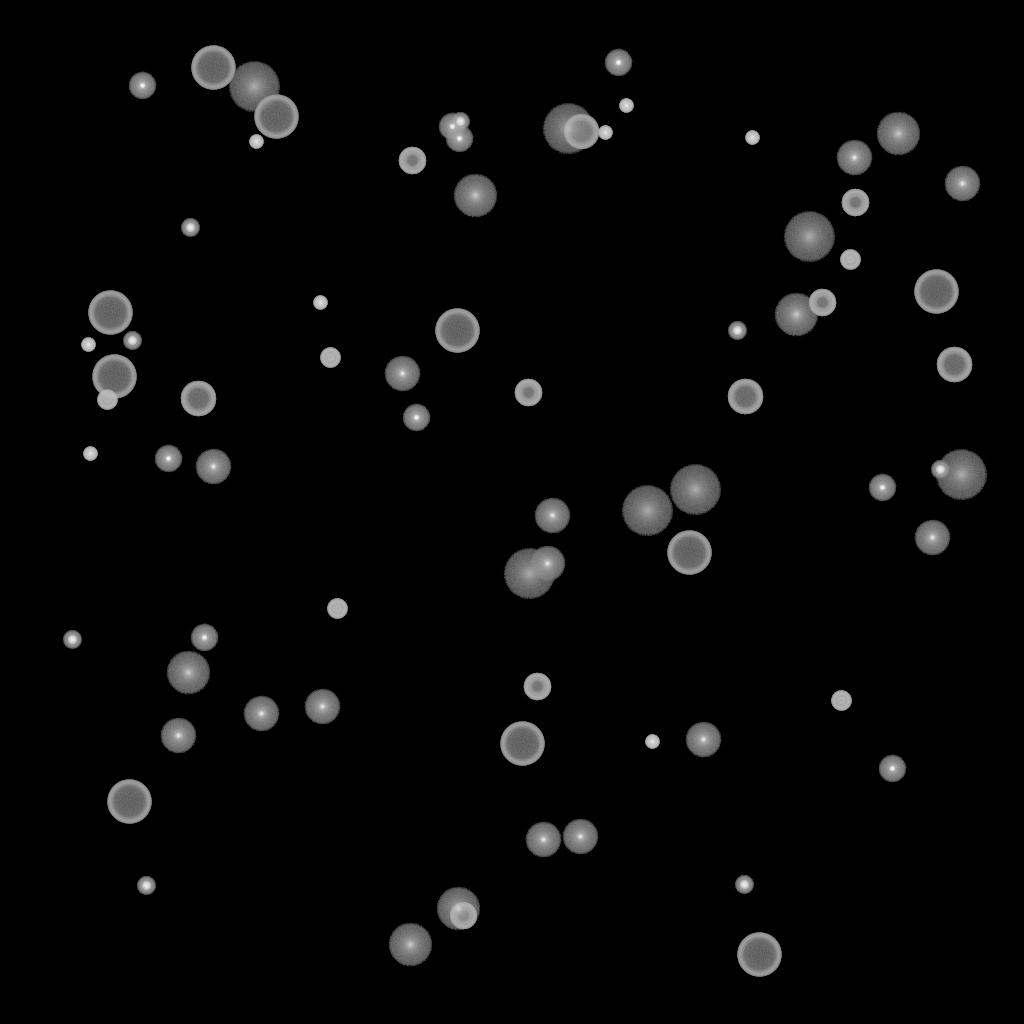depth:-10: (438, 113, 466, 141), (445, 125, 473, 153), (604, 49, 632, 77), (190, 624, 218, 652), (878, 755, 906, 783), (868, 474, 896, 502), (154, 445, 182, 473), (128, 72, 156, 100), (402, 404, 430, 432)
depth:-20: (137, 877, 155, 895), (931, 461, 949, 479), (181, 219, 199, 237), (123, 332, 141, 350), (451, 113, 469, 131), (63, 631, 81, 649), (735, 876, 753, 894), (728, 322, 746, 340)
depth:-30: (745, 131, 759, 145), (598, 126, 612, 140), (619, 99, 633, 113), (313, 296, 327, 310), (249, 135, 263, 149), (81, 338, 95, 352), (645, 735, 659, 749), (83, 447, 97, 461)
depth:-40: (831, 691, 851, 711), (840, 250, 860, 270), (97, 390, 117, 410), (320, 348, 340, 368), (327, 599, 347, 619)
depth:-50: (841, 189, 869, 217), (398, 147, 426, 175), (514, 379, 542, 407), (523, 673, 551, 701), (449, 902, 477, 930), (808, 289, 836, 317)
depth:-60: (180, 381, 216, 417), (936, 347, 972, 383), (727, 379, 763, 415), (563, 114, 599, 150)
depth:-70: (667, 531, 711, 575), (737, 933, 781, 977), (254, 95, 298, 139), (92, 355, 136, 399), (107, 780, 151, 824), (500, 722, 544, 766), (191, 46, 235, 90), (435, 309, 479, 353), (88, 291, 132, 335), (914, 270, 958, 314)
depth:0: (914, 520, 950, 556), (529, 546, 565, 582), (304, 689, 340, 725), (243, 696, 279, 732), (534, 498, 570, 534), (944, 166, 980, 202), (160, 718, 196, 754), (195, 449, 231, 485), (836, 140, 872, 176), (685, 722, 721, 758), (562, 819, 598, 855), (525, 822, 561, 858), (384, 356, 420, 392)
depth:10: (166, 651, 210, 695), (774, 293, 818, 337), (436, 887, 480, 931), (876, 112, 920, 156), (388, 923, 432, 967), (453, 174, 497, 218)
depth:20: (542, 104, 594, 154), (935, 450, 987, 500), (228, 62, 280, 112), (669, 465, 721, 515), (621, 486, 673, 536), (783, 212, 835, 262), (503, 549, 555, 599)
